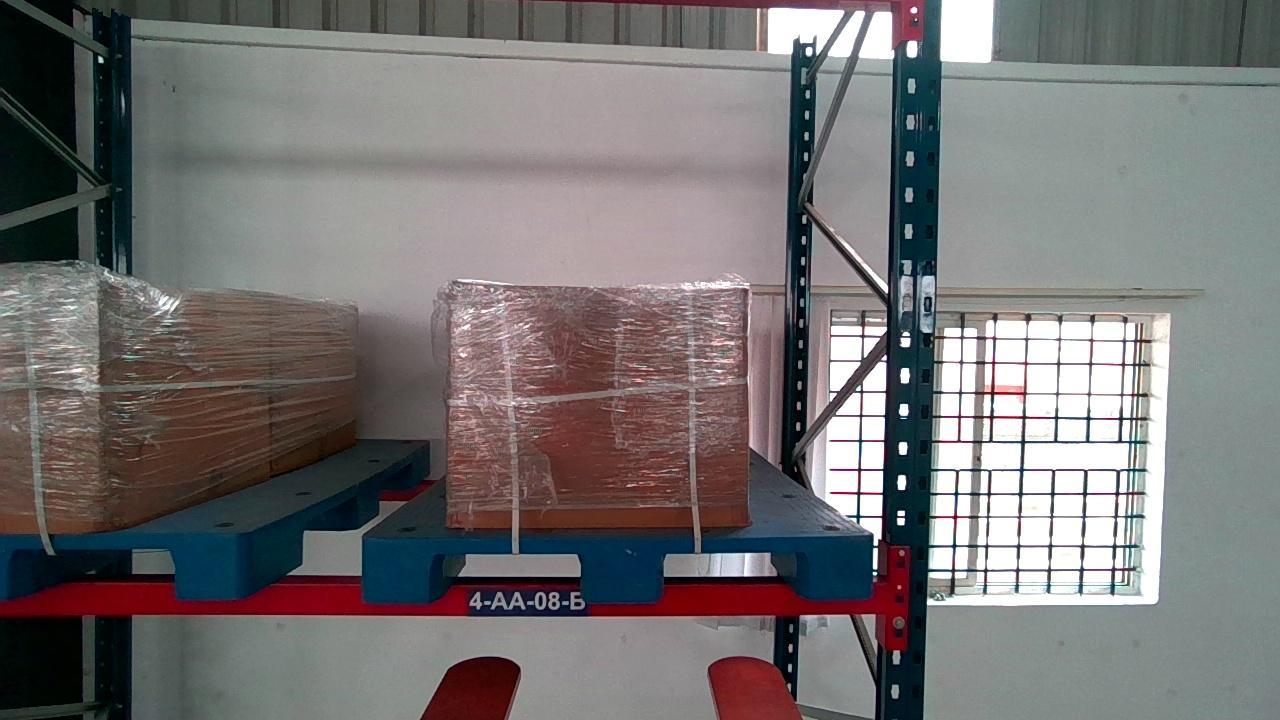h_rack: (0, 581, 886, 619)
small_pallet: (362, 535, 872, 598)
